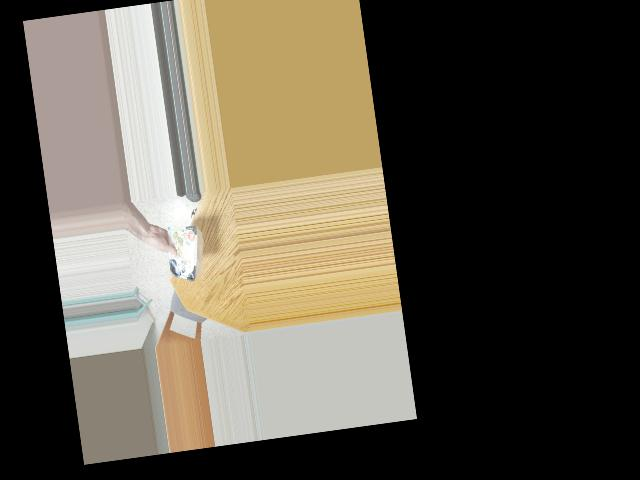cheese: (159, 225, 204, 281)
